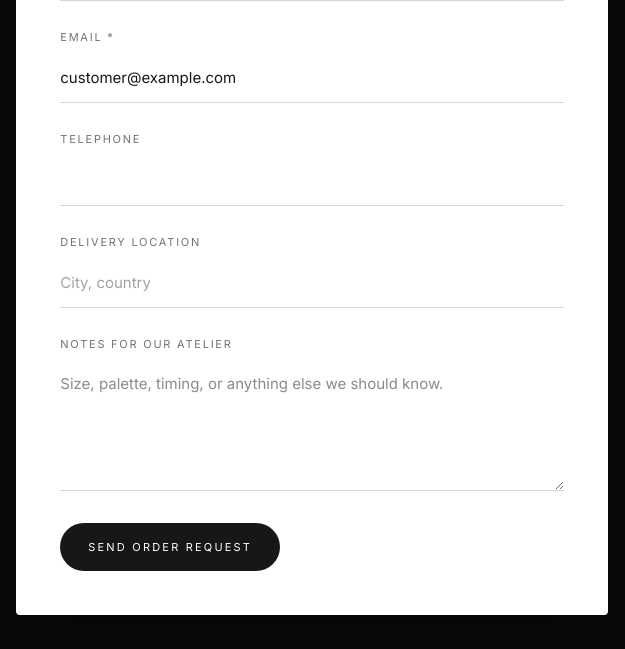
Scenario: request recovery › does not claim success without an order reference
(page scrolled)
Click the button "Send order request" at coordinates (170, 547), box [60,523,280,571]
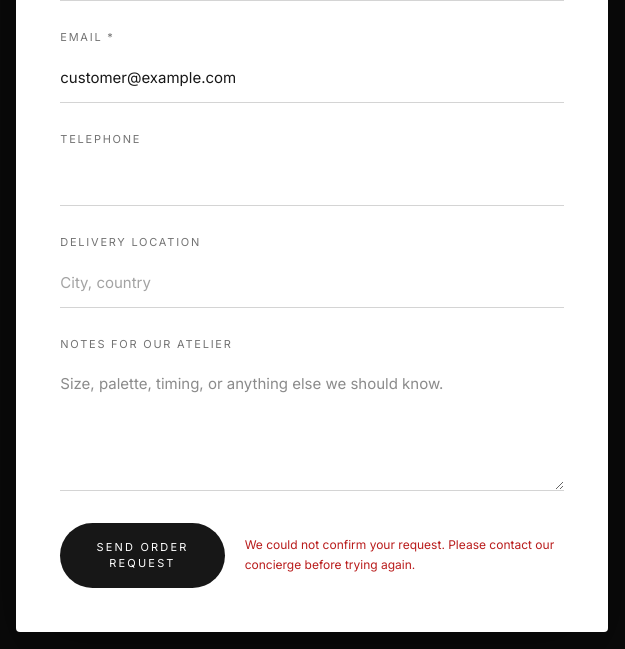
Expected: the message shows "contact our concierge before trying again", [245,537,554,572]
